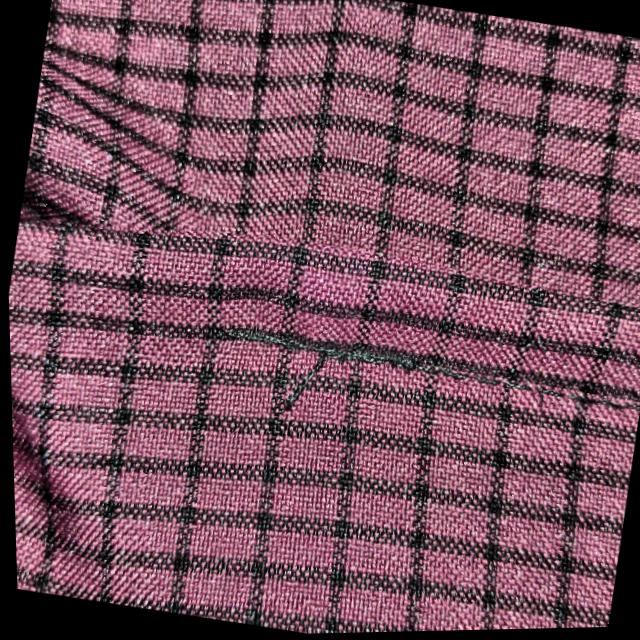Stitch: (203, 280, 404, 499)
